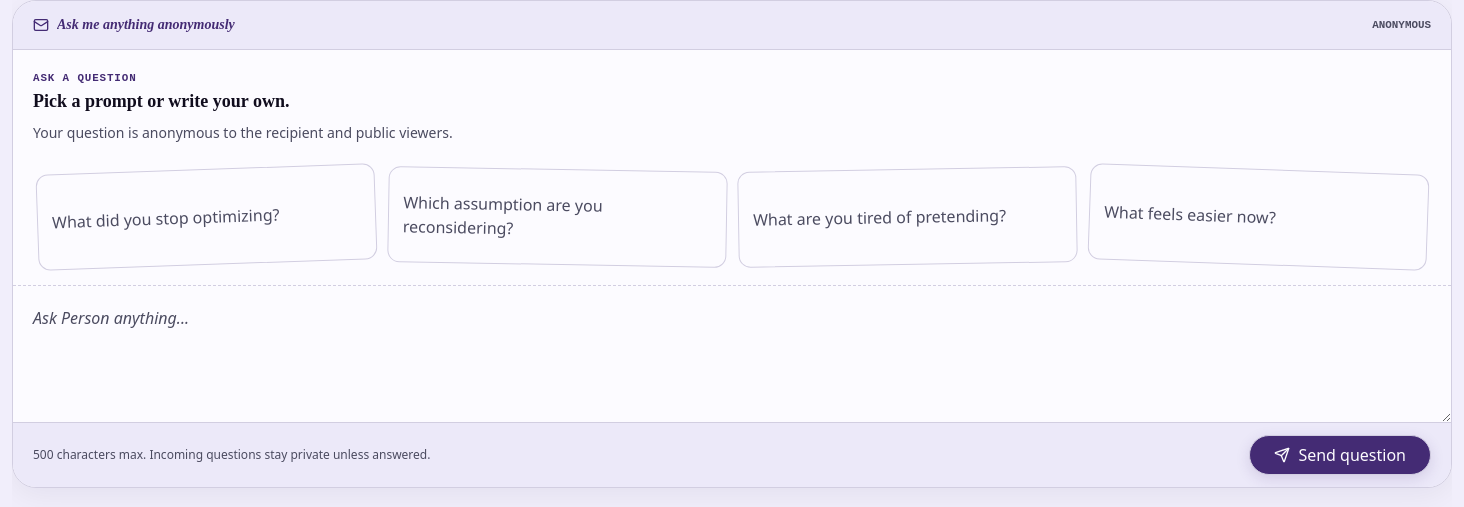
Test: public profile components › fills the public question with a selected prompt suggestion
This screenshot has width=1464, height=507.
Click the button with aria-label "use prompt:": x=206, y=217 [35, 163, 377, 271]
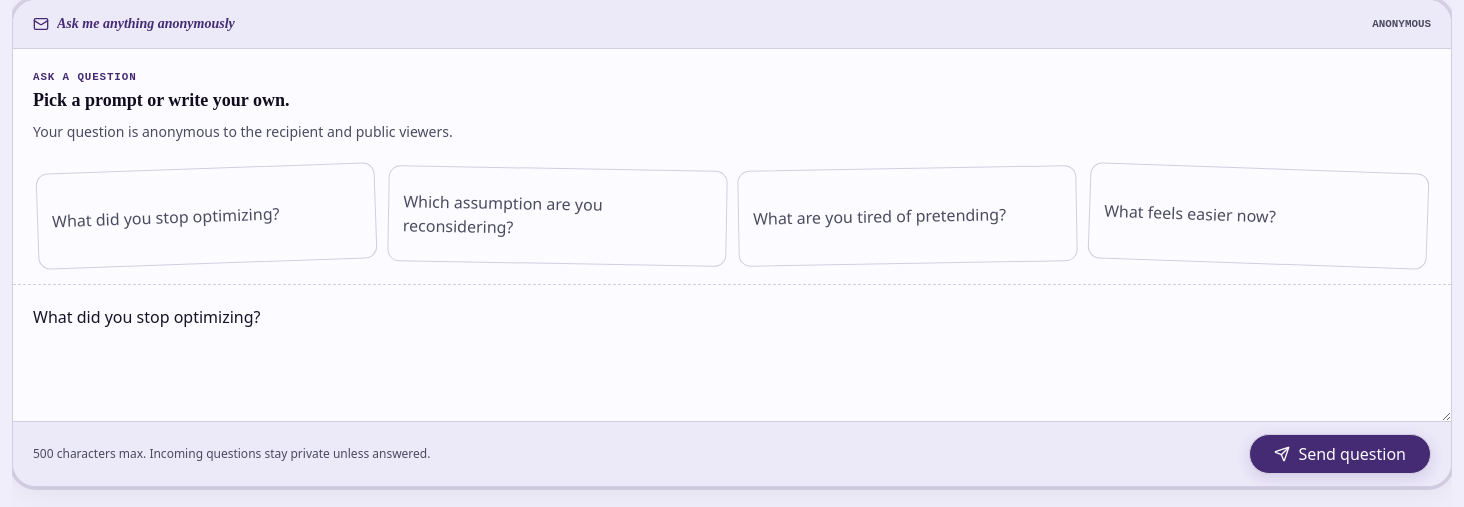
Expected: the text box named "question" holds "What did you stop optimizing?", [13, 285, 1451, 421]
